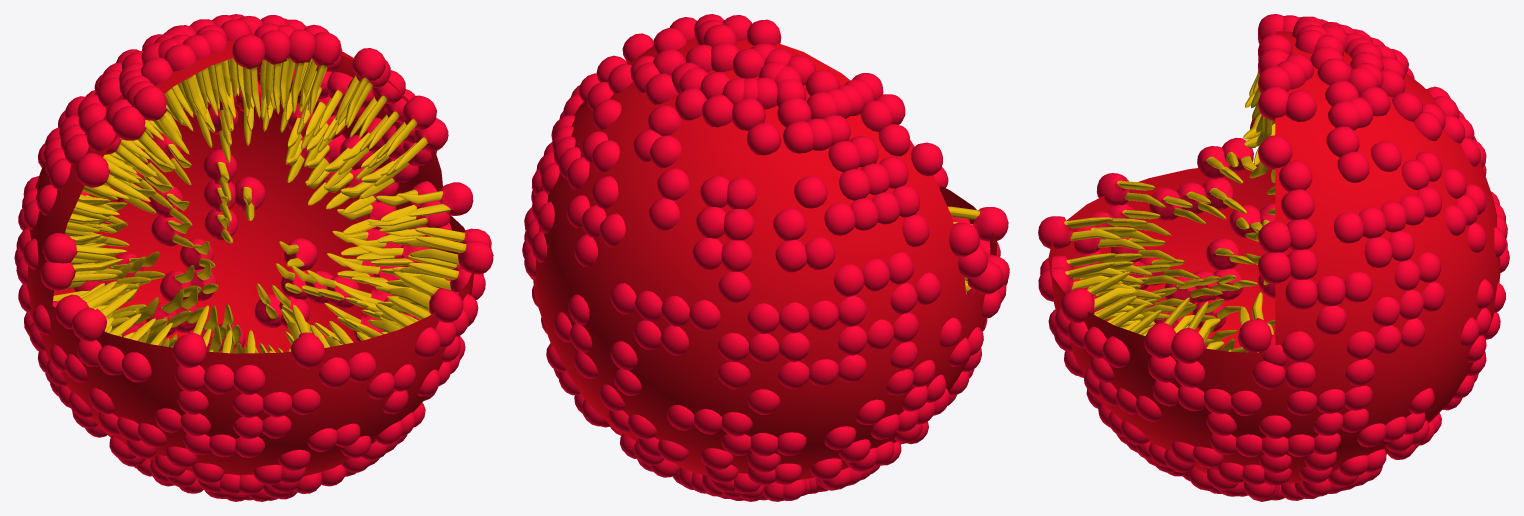
The model's file is micela-v2.glb.
3 renders of one model, left to right at view 1: azimuth 30°, elevation 25°; view 2: azimuth 150°, elevation 25°; view 3: azimuth 270°, elevation 25°, orthographic. The views are drawn at different scales.
Visible parts, largest first — view 1: lipideo (×101), Esfera UV.001; view 2: Esfera UV.001, lipideo (×105); view 3: lipideo (×96), Esfera UV.001.
Part boxes in pixels (x1,y1,x2,y2): lipideo (×101): [23, 19, 493, 483]; Esfera UV.001: [25, 40, 474, 476]; Esfera UV.001: [533, 37, 997, 480]; lipideo (×105): [567, 19, 1008, 480]; lipideo (×96): [1038, 14, 1466, 457]; Esfera UV.001: [1048, 31, 1500, 483].
Size of the model in its own units: 10.2 by 10.29 by 9.88.
